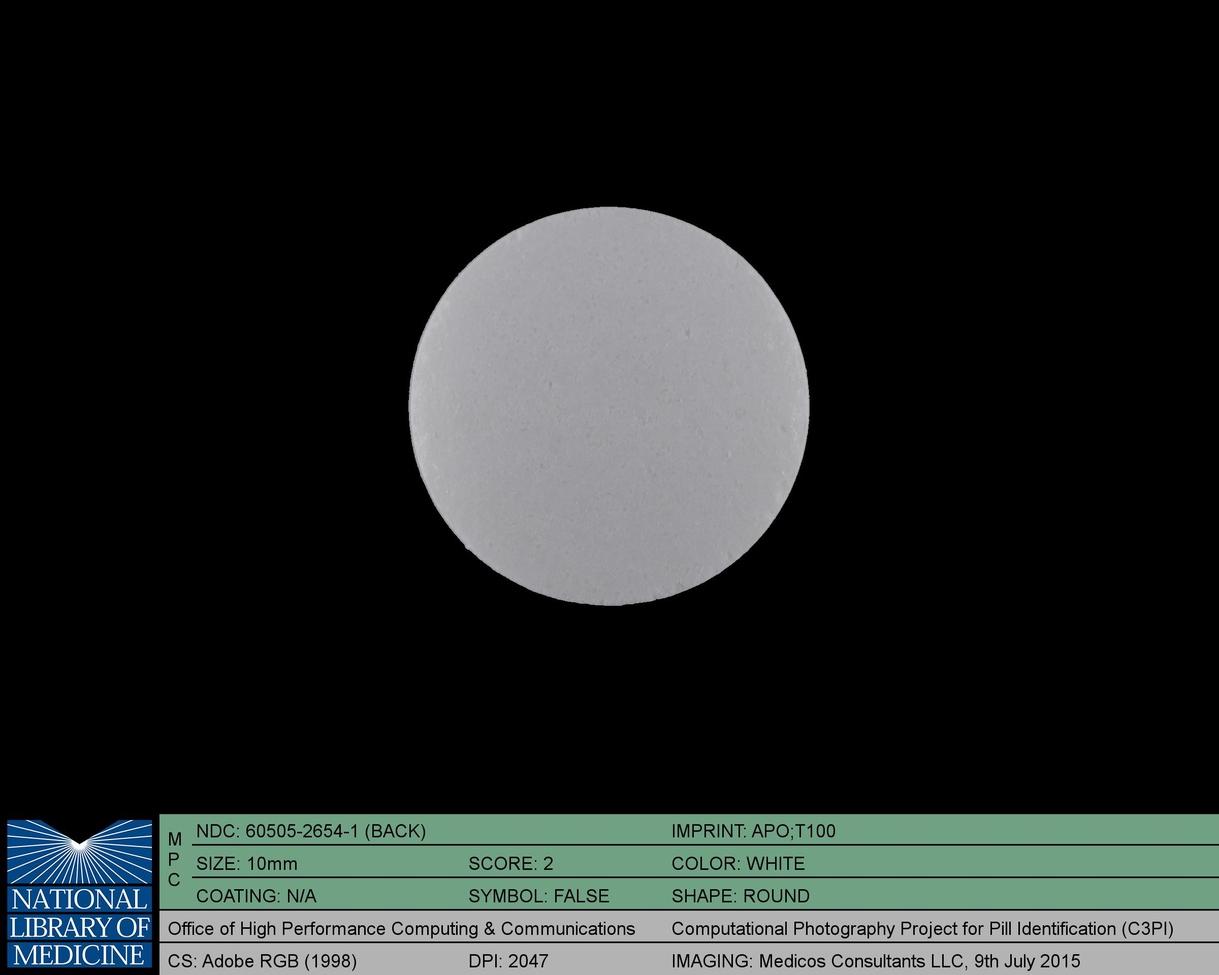Pill: (394, 191, 821, 616)
